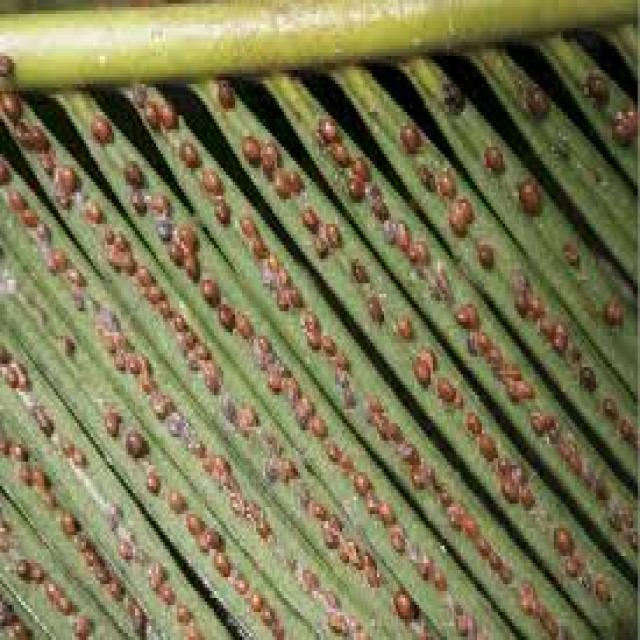scale_insect: (507, 171, 547, 224), (46, 154, 82, 196), (84, 101, 114, 147), (149, 87, 179, 133), (522, 77, 550, 126), (193, 266, 224, 308), (393, 112, 424, 154), (438, 70, 466, 115), (28, 136, 60, 175), (475, 136, 507, 175), (21, 112, 53, 150), (172, 213, 203, 252), (28, 206, 56, 248), (235, 126, 263, 168), (119, 150, 149, 189), (121, 420, 151, 458), (405, 343, 430, 388), (135, 458, 163, 497), (172, 129, 200, 168), (472, 423, 498, 465), (314, 105, 340, 147), (7, 112, 35, 150), (370, 490, 398, 528), (212, 66, 235, 112), (107, 238, 137, 273), (177, 238, 202, 280), (547, 514, 572, 556), (431, 364, 456, 406), (389, 210, 414, 252), (272, 444, 298, 483), (228, 301, 254, 339), (135, 91, 161, 129), (279, 273, 305, 311), (14, 196, 42, 231), (160, 479, 188, 514), (0, 80, 23, 122), (126, 255, 156, 287), (232, 392, 260, 426), (316, 214, 344, 248), (433, 161, 458, 199), (53, 318, 77, 357), (235, 206, 261, 242), (295, 192, 319, 231), (407, 227, 431, 266), (142, 182, 172, 213), (209, 189, 233, 227), (328, 336, 352, 374), (344, 147, 370, 182), (98, 402, 121, 441), (56, 500, 79, 539), (396, 430, 419, 469), (363, 283, 386, 322), (58, 255, 86, 287), (26, 458, 54, 490), (459, 402, 484, 437), (268, 161, 291, 199), (498, 469, 521, 507), (344, 248, 368, 284), (472, 234, 496, 270), (75, 186, 100, 220), (347, 462, 372, 496), (44, 238, 68, 273), (123, 182, 147, 217), (365, 189, 389, 224), (196, 161, 223, 192), (5, 178, 28, 214), (458, 290, 479, 329), (281, 158, 305, 192), (198, 360, 221, 395), (149, 210, 172, 245), (305, 402, 328, 437), (326, 133, 349, 168), (205, 444, 230, 476), (382, 521, 407, 553), (212, 294, 233, 332), (319, 427, 340, 465), (342, 161, 363, 199), (256, 130, 279, 164), (512, 476, 535, 510), (140, 273, 165, 304), (296, 301, 321, 332), (132, 339, 154, 374), (260, 360, 282, 395), (444, 196, 466, 231), (246, 228, 268, 262), (316, 518, 340, 549), (107, 220, 130, 252), (191, 332, 214, 364), (307, 224, 328, 259), (279, 364, 300, 398), (458, 504, 479, 538), (305, 490, 328, 521), (298, 322, 321, 353), (363, 385, 386, 416), (391, 308, 414, 339), (524, 402, 544, 437), (524, 280, 542, 318), (151, 294, 175, 322), (7, 430, 28, 462), (449, 297, 470, 329), (479, 339, 503, 367), (500, 356, 524, 384), (121, 343, 142, 374), (470, 525, 491, 556), (507, 284, 526, 318), (249, 325, 272, 353), (2, 356, 19, 392), (317, 322, 335, 356), (107, 343, 126, 374), (186, 427, 205, 458), (472, 322, 491, 353), (98, 325, 119, 353), (433, 479, 454, 507), (165, 308, 189, 332), (54, 427, 72, 458), (0, 42, 14, 80), (270, 284, 289, 312), (547, 325, 565, 353), (149, 385, 165, 416), (68, 441, 86, 468), (179, 322, 198, 346), (98, 217, 114, 245), (356, 538, 372, 566), (0, 154, 12, 185), (0, 335, 9, 367)
